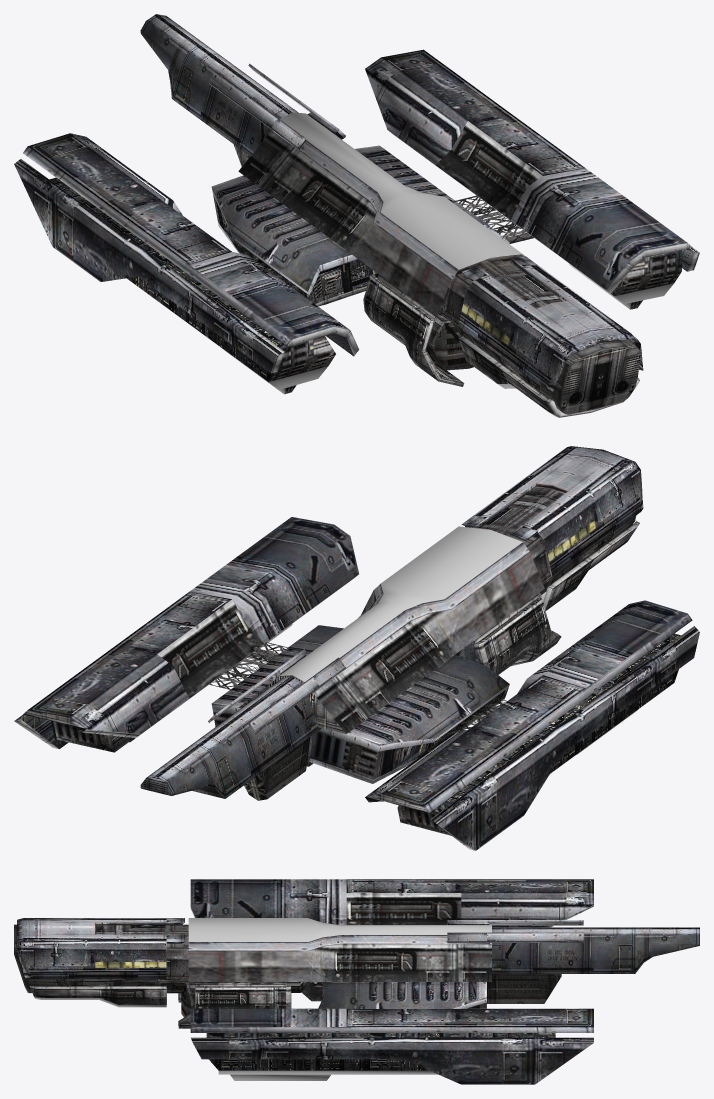
Rendered from humanCorvette.fbx.
The picture shows the model from 3 angles, top to bottom: view 1: azimuth 30°, elevation 25°; view 2: azimuth 150°, elevation 25°; view 3: azimuth 270°, elevation 25°; orthographic projection. The views are drawn at different scales.
Visible parts, largest first — view 1: Cube; view 2: Cube; view 3: Cube.
Part boxes in pixels (x1=…): Cube: x1=14, y1=14, x2=699, y2=417; Cube: x1=14, y1=446, x2=699, y2=850; Cube: x1=14, y1=879, x2=699, y2=1084.
Bounding box in the file's own units: 7.08 × 1.86 × 13.
